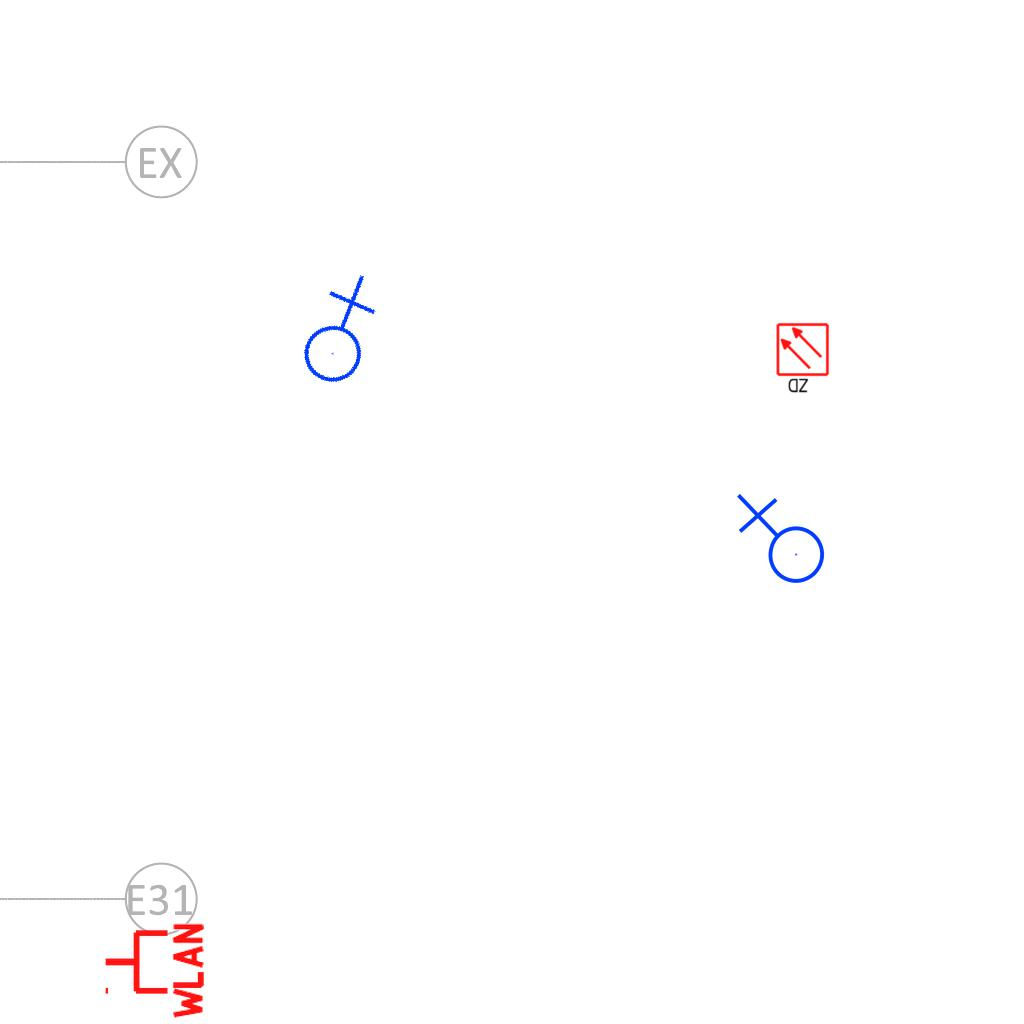Elektroanschluss_allgemein_230V_Geraeteanschlussdose_230V: (271, 269, 402, 397), (732, 493, 826, 592)
WLAN: (101, 919, 206, 1023)
ZD_Melder_in_Zwischendecke_mit_Revisionsoeffnung_mind_40_x_40_cm: (775, 322, 832, 396)
